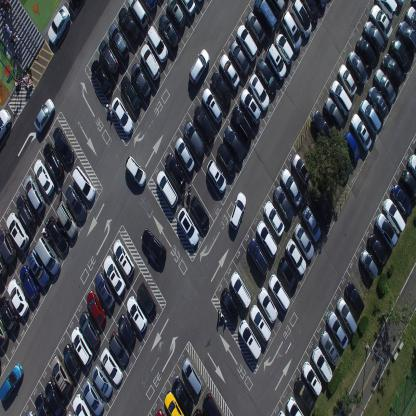car: (34, 235, 60, 276), (50, 353, 74, 396), (103, 253, 126, 297), (46, 4, 70, 46), (238, 318, 262, 359), (26, 247, 50, 288), (0, 362, 24, 403), (176, 207, 200, 247), (46, 215, 70, 255), (5, 210, 29, 250), (111, 96, 135, 135), (72, 164, 96, 203), (141, 227, 166, 264), (55, 200, 78, 240), (290, 0, 313, 40), (246, 237, 269, 277), (373, 67, 396, 107), (326, 310, 349, 350), (382, 197, 406, 235), (7, 277, 29, 318), (223, 125, 246, 164), (15, 193, 38, 232), (100, 347, 123, 386), (145, 25, 169, 62), (156, 170, 178, 210), (24, 174, 46, 214), (256, 57, 278, 97), (268, 272, 290, 312), (256, 220, 278, 260), (293, 221, 315, 261), (126, 294, 148, 334), (71, 326, 93, 366), (311, 344, 333, 384), (107, 22, 130, 60), (171, 375, 194, 413), (140, 43, 162, 82), (201, 87, 223, 126), (130, 61, 152, 100), (350, 113, 372, 152), (112, 239, 134, 278), (335, 296, 357, 335), (194, 104, 215, 144), (230, 270, 251, 310), (94, 270, 115, 310), (183, 121, 205, 159), (188, 194, 210, 232), (249, 304, 271, 342), (65, 184, 87, 222), (118, 6, 140, 44), (52, 126, 74, 164), (188, 48, 210, 86), (18, 263, 40, 301), (231, 105, 253, 143), (82, 378, 104, 416), (329, 80, 352, 116), (79, 310, 100, 349), (253, 0, 277, 34), (91, 59, 113, 96), (42, 142, 64, 179), (34, 97, 56, 134), (240, 88, 262, 125), (236, 25, 258, 62), (263, 200, 285, 237), (312, 110, 334, 147), (370, 3, 392, 40), (359, 98, 381, 135), (376, 212, 398, 249), (281, 11, 301, 51), (266, 42, 286, 82), (120, 74, 141, 112), (98, 38, 119, 76), (211, 70, 232, 108), (219, 52, 240, 90), (249, 74, 270, 112), (228, 40, 249, 78), (257, 286, 278, 324), (281, 168, 302, 206), (390, 36, 411, 74), (136, 282, 157, 320), (206, 158, 228, 194), (91, 364, 113, 400), (44, 379, 66, 415), (181, 358, 203, 394), (381, 52, 404, 86), (286, 237, 306, 276), (273, 185, 294, 222), (301, 360, 322, 397), (175, 137, 195, 175), (34, 158, 54, 196), (312, 189, 332, 227), (302, 204, 322, 242), (347, 49, 368, 85), (108, 330, 129, 366), (363, 20, 385, 54), (390, 183, 412, 217), (165, 152, 185, 189), (220, 286, 240, 323), (320, 330, 340, 367), (216, 143, 237, 178), (124, 154, 146, 187), (158, 13, 178, 49), (0, 295, 18, 335), (323, 96, 344, 130), (356, 35, 377, 69), (229, 192, 247, 231), (245, 11, 265, 46), (62, 343, 82, 378), (86, 290, 105, 326), (338, 64, 358, 98), (368, 86, 388, 120), (294, 376, 314, 410), (345, 281, 365, 315), (291, 153, 311, 186), (117, 312, 135, 348), (278, 255, 297, 289), (368, 232, 387, 266), (0, 227, 17, 264), (275, 32, 294, 65), (342, 131, 361, 164), (166, 0, 186, 31), (127, 0, 149, 28), (398, 20, 416, 54), (360, 248, 378, 280), (400, 168, 416, 203), (164, 389, 184, 415), (301, 0, 320, 27), (376, 0, 398, 22), (72, 392, 91, 416), (202, 392, 221, 416), (0, 107, 12, 143), (34, 392, 52, 416), (267, 0, 285, 19), (286, 396, 304, 415), (406, 5, 416, 31), (0, 320, 9, 347), (181, 0, 195, 17), (140, 0, 158, 12), (314, 0, 328, 15), (408, 152, 415, 181), (0, 255, 8, 280), (69, 0, 84, 10), (192, 407, 203, 415), (154, 408, 164, 416), (24, 409, 36, 415), (65, 410, 75, 416), (278, 410, 286, 416)
